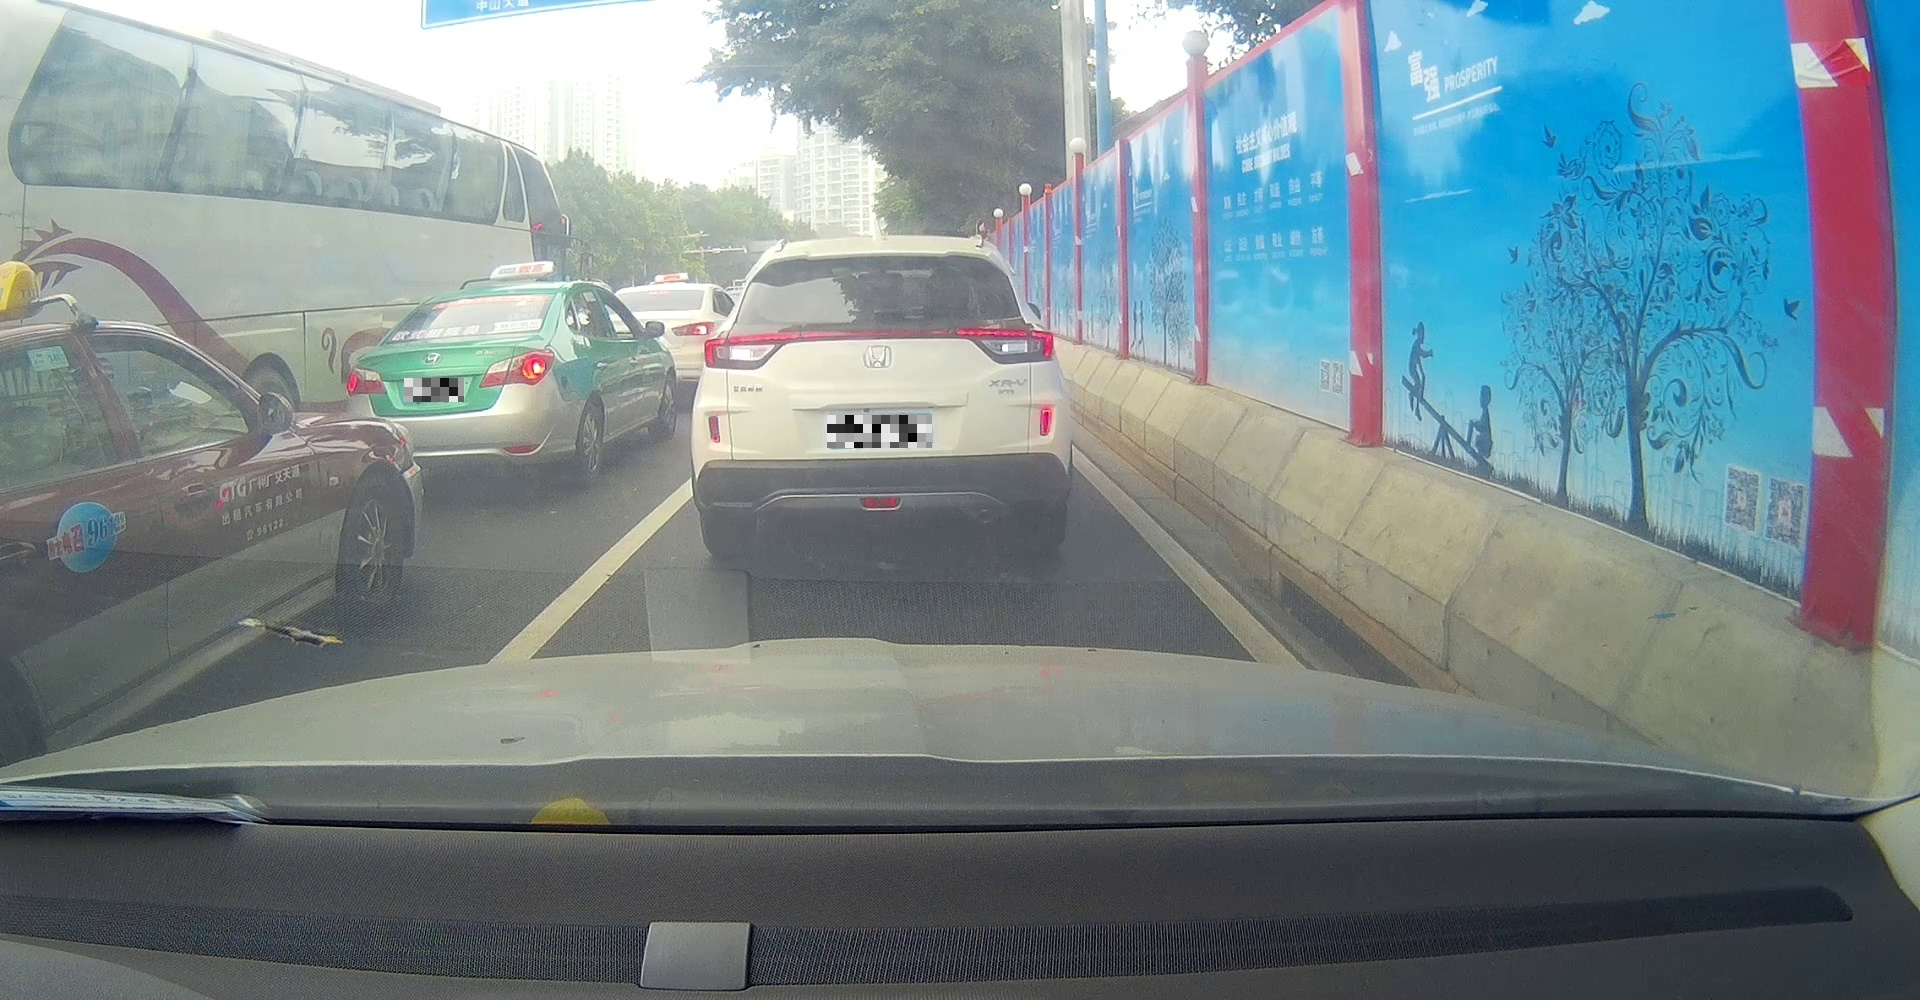L_light: (703, 332, 800, 371), (345, 368, 389, 397)
R_light: (957, 330, 1054, 364), (477, 349, 555, 388)
T_light: (837, 330, 921, 338), (483, 296, 507, 299)
day-no: (691, 236, 1070, 558), (344, 280, 571, 492)
plate_1: (404, 378, 463, 402)
plate_2: (827, 415, 932, 448)
